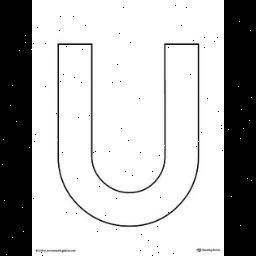u: (48, 28, 222, 242)
